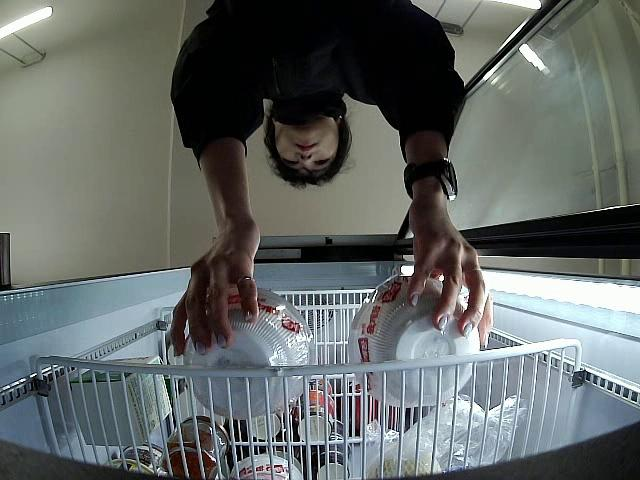00_hand: (407, 206, 493, 349), (168, 235, 259, 357)
09_yukGaeJang: (181, 290, 317, 417), (345, 272, 477, 401)
